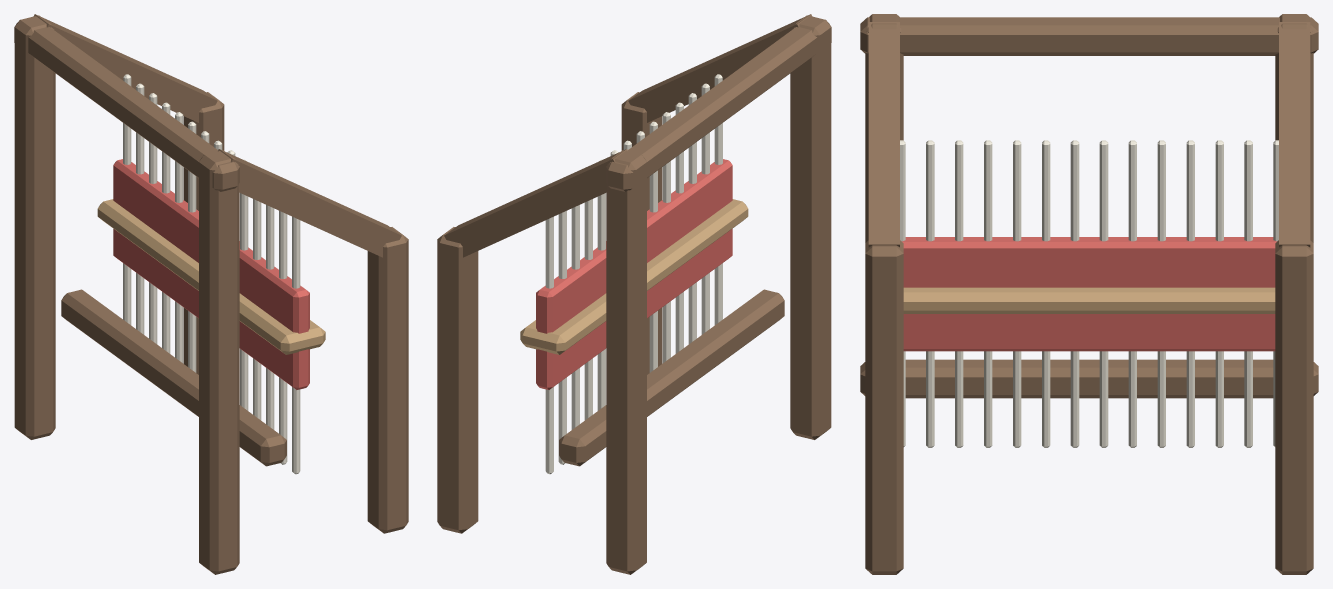
Rendered from town_loom.glb.
3 views of the same model, side by side, from view 1: azimuth 30°, elevation 25°; view 2: azimuth 150°, elevation 25°; view 3: azimuth 270°, elevation 25° (orthographic). The views are drawn at different scales.
Parts seen in each view (by area): view 1: world; view 2: world; view 3: world.
Boxes of the visible parts, x1,y1,x2,y2 form: world: (14, 14, 408, 574); world: (437, 14, 831, 574); world: (860, 14, 1318, 574).
Size of the model in its own units: 1.01 by 2 by 1.81.
